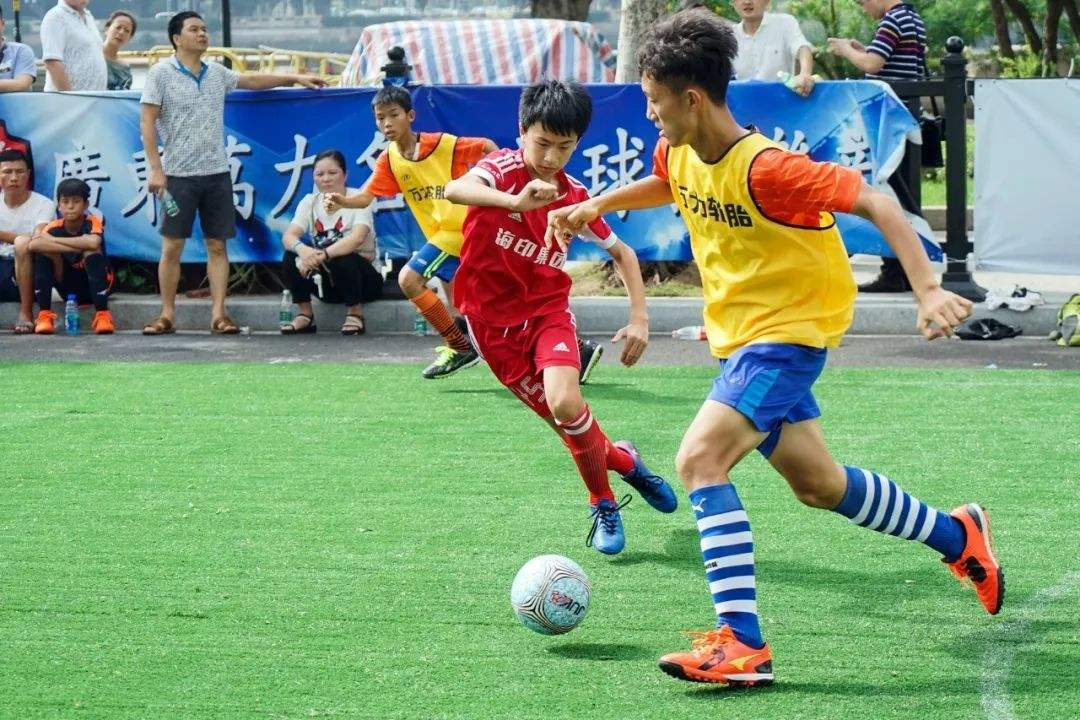football: (509, 552, 591, 635)
